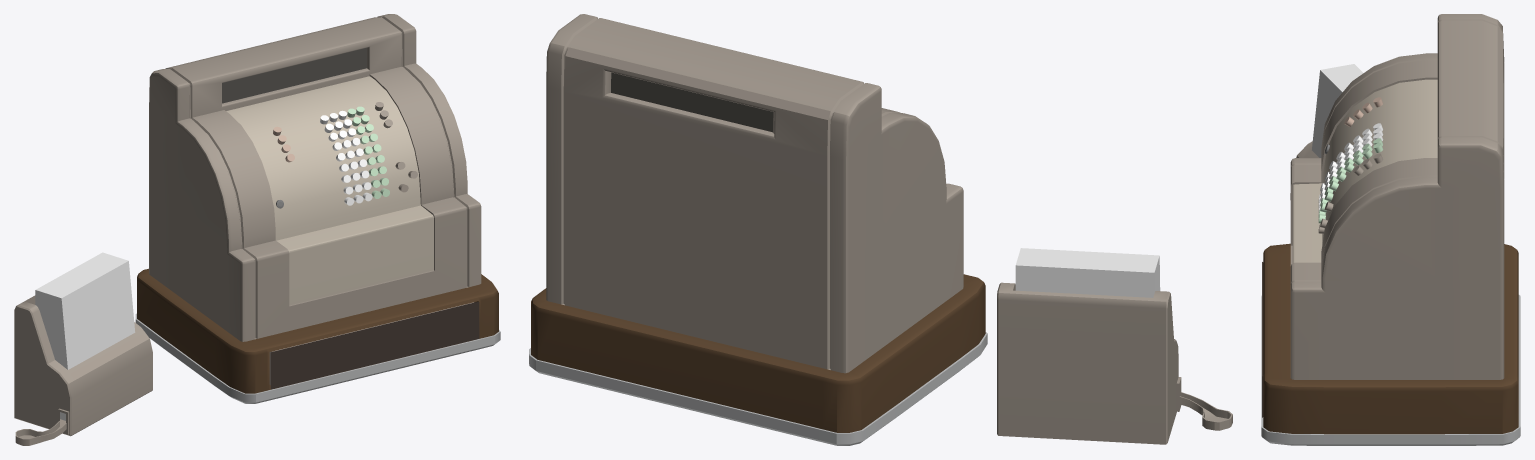
File: CS_Cash Register01_HB.fbx
The picture shows the model from 3 angles, left to right: view 1: azimuth 30°, elevation 25°; view 2: azimuth 150°, elevation 25°; view 3: azimuth 270°, elevation 25°; orthographic projection. The views are drawn at different scales.
Visible parts, largest first — view 1: pCube1, pCube2, pCube4, pCube3, pCylinder15, pCylinder43; view 2: pCube1, pCube2, pCube3; view 3: pCube1, pCube3, pCylinder15, pCylinder43, pCylinder47, pCube4.
Part boxes in pixels (box(x1,y1,x2,y2)): pCube1: box(135, 14, 500, 403); pCube2: box(14, 295, 152, 445); pCube4: box(269, 302, 479, 389); pCube3: box(35, 252, 135, 420); pCylinder15: box(320, 110, 372, 205); pCylinder43: box(347, 106, 389, 198); pCube1: box(529, 14, 987, 445); pCube2: box(997, 282, 1232, 444); pCube3: box(1015, 248, 1160, 297); pCube1: box(1261, 14, 1520, 445); pCube3: box(1312, 64, 1363, 157); pCylinder15: box(1318, 123, 1383, 213); pCylinder43: box(1318, 138, 1383, 223); pCylinder47: box(1344, 97, 1383, 126); pCube4: box(1262, 262, 1263, 417).
Size of the model in its own units: 0.9806 by 0.5198 by 0.4135.
